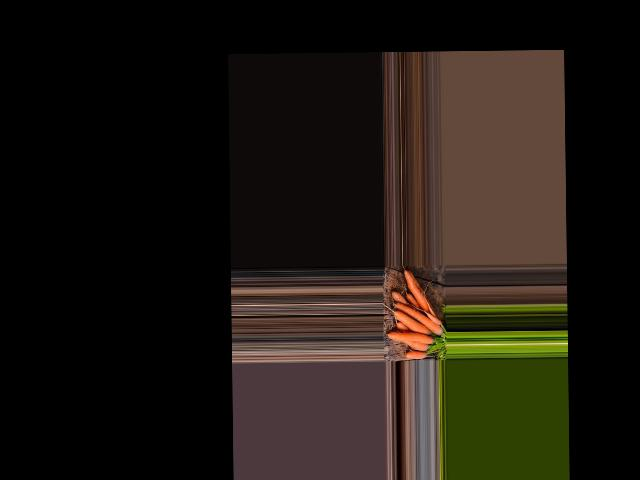carrot: (401, 271, 428, 312)
